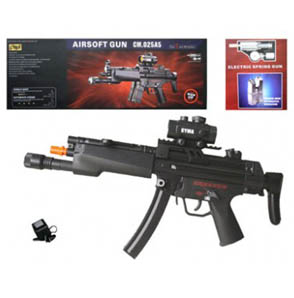rifle: (3, 108, 284, 256)
